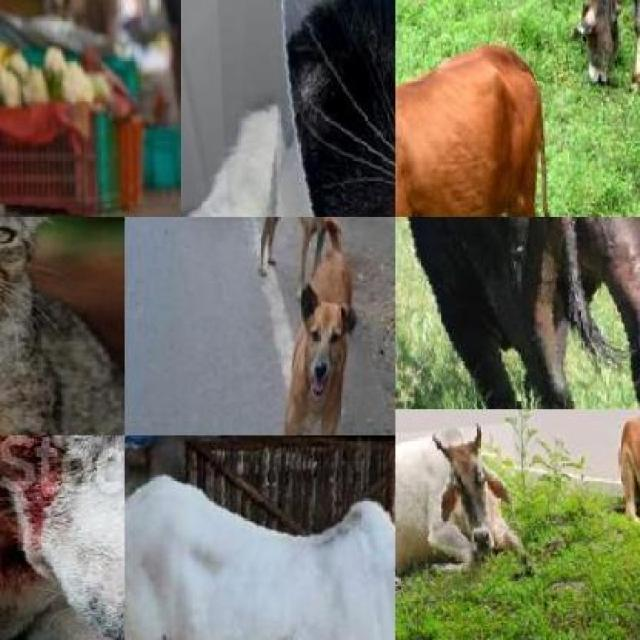buffalo: (395, 217, 640, 409)
cat: (210, 0, 396, 217), (0, 217, 125, 435)
cow: (124, 435, 396, 640), (396, 423, 526, 608), (395, 89, 574, 217), (563, 0, 640, 92)
dog: (0, 435, 125, 640), (266, 235, 368, 436), (251, 217, 354, 274)
injured: (0, 436, 86, 586)
